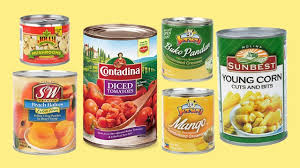can: (14, 10, 292, 156)
